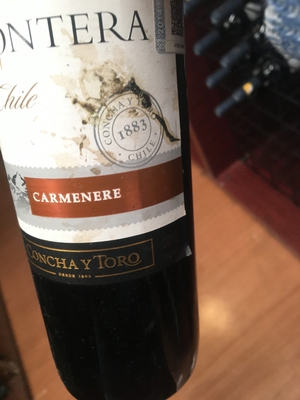frontera carmenere: (1, 10, 191, 380)
